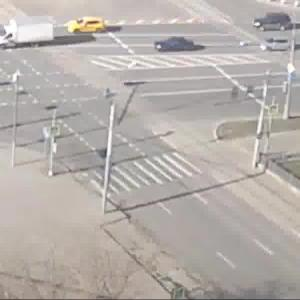car: (1, 17, 59, 48), (66, 17, 122, 40), (253, 12, 298, 32), (151, 33, 195, 53), (264, 37, 292, 52)
